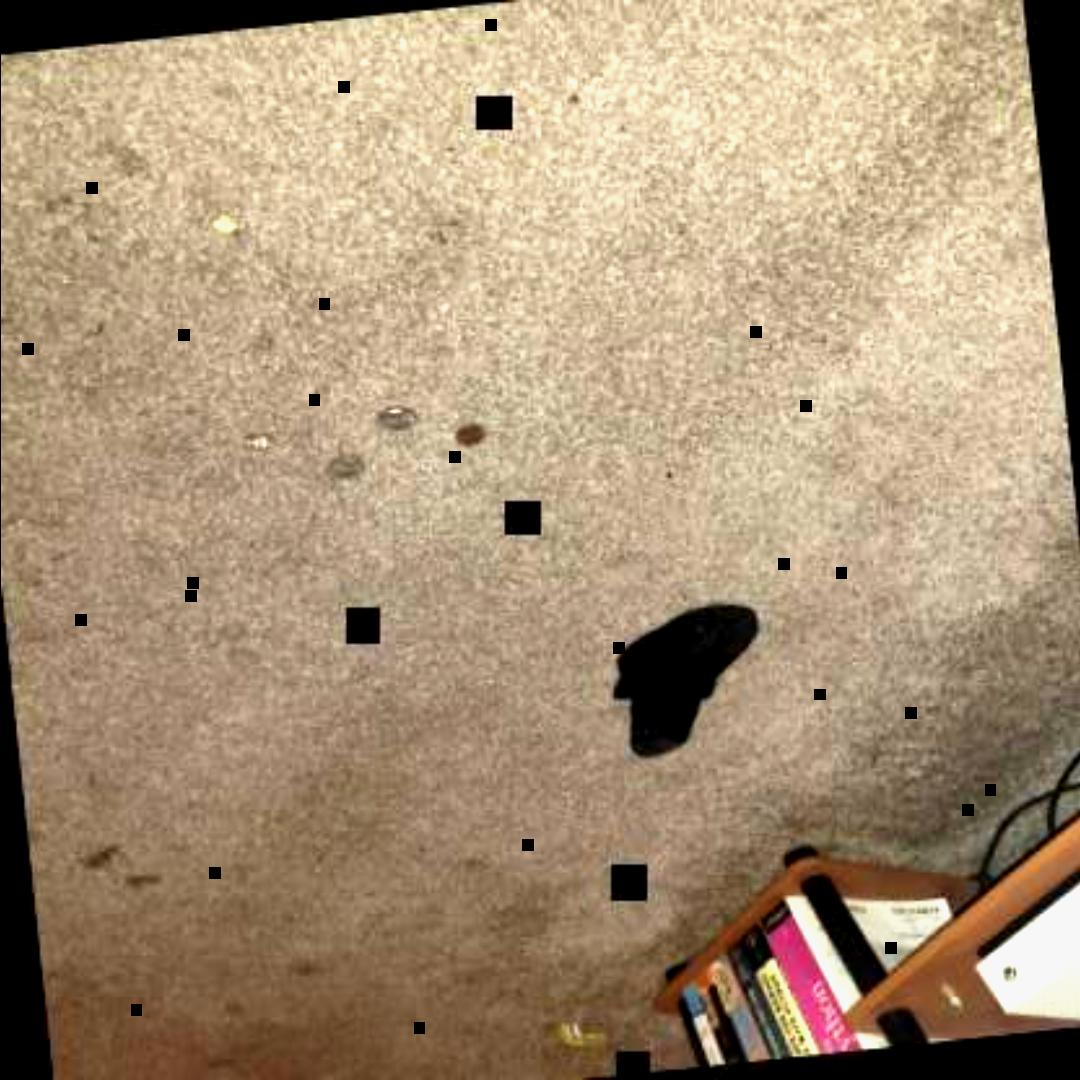Dime: (245, 427, 283, 455)
Penny: (454, 422, 490, 446)
Quarter: (376, 400, 426, 442), (324, 448, 374, 486)
